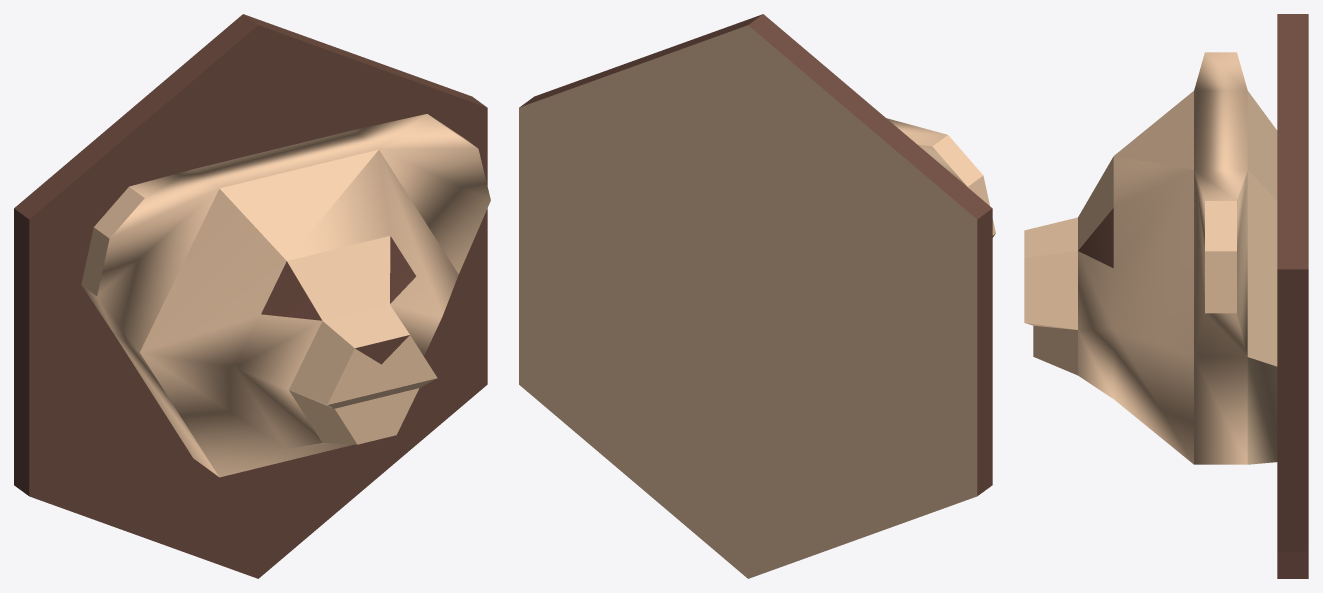
The model's file is bear.glb.
The picture shows the model from 3 angles, left to right: view 1: azimuth 30°, elevation 25°; view 2: azimuth 150°, elevation 25°; view 3: azimuth 270°, elevation 25°; orthographic projection. The views are drawn at different scales.
Parts seen in each view (by area): view 1: bear; view 2: bear; view 3: bear.
Boxes of the visible parts, x1,y1,x2,y2 form: bear: [14, 14, 490, 578]; bear: [519, 14, 995, 578]; bear: [1024, 14, 1308, 578].
Size of the model in its own units: 0.3897 by 0.45 by 0.2052.
